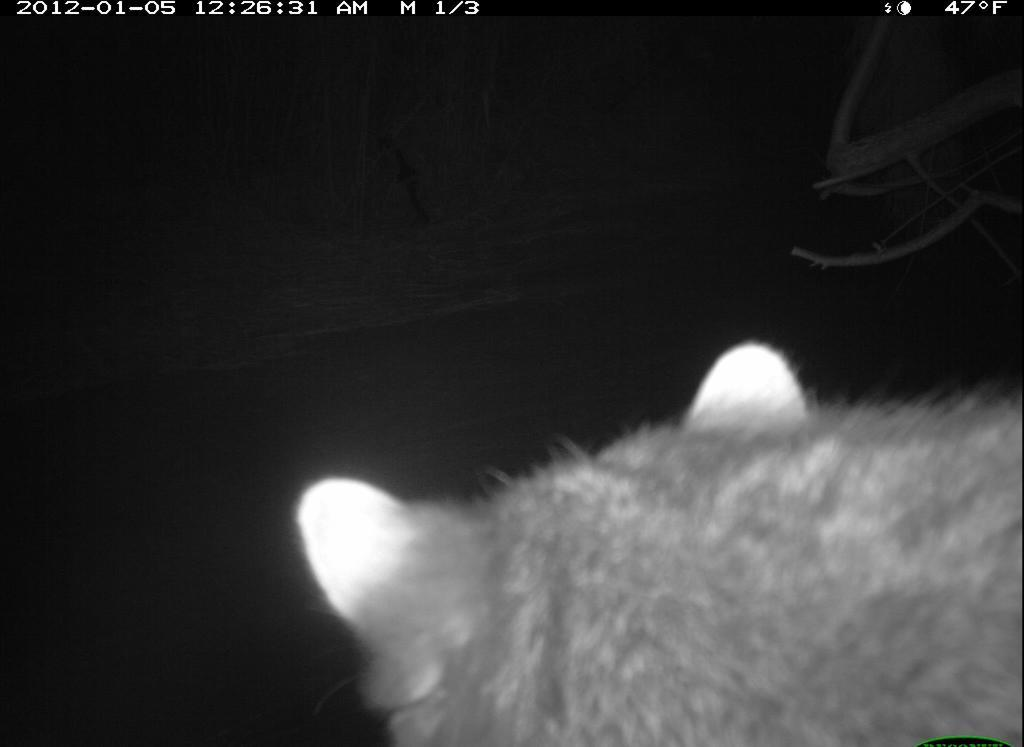raccoon: (282, 326, 1023, 747)
